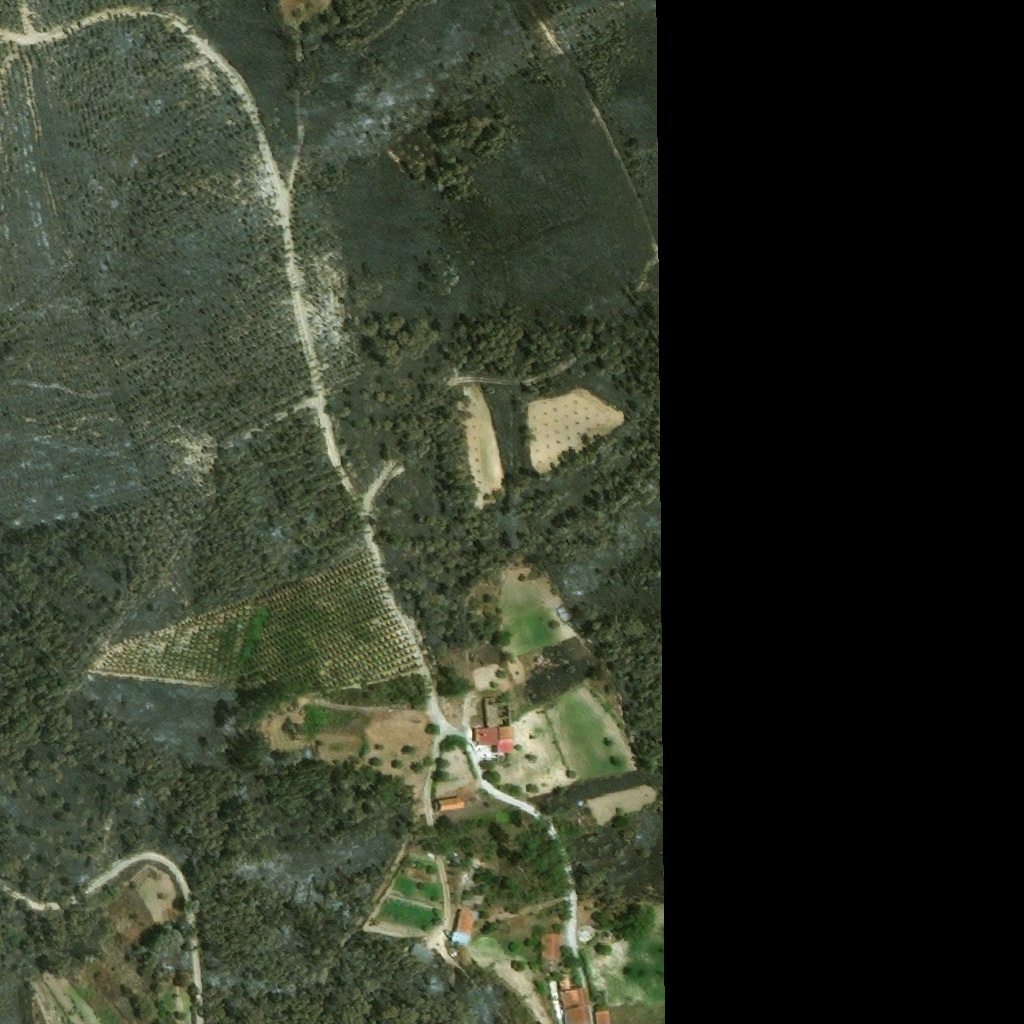0 no-damage: (472, 697, 513, 747), (553, 975, 586, 1023), (452, 908, 474, 944), (542, 933, 560, 959), (409, 944, 433, 961), (438, 797, 465, 811), (595, 1009, 612, 1023)
